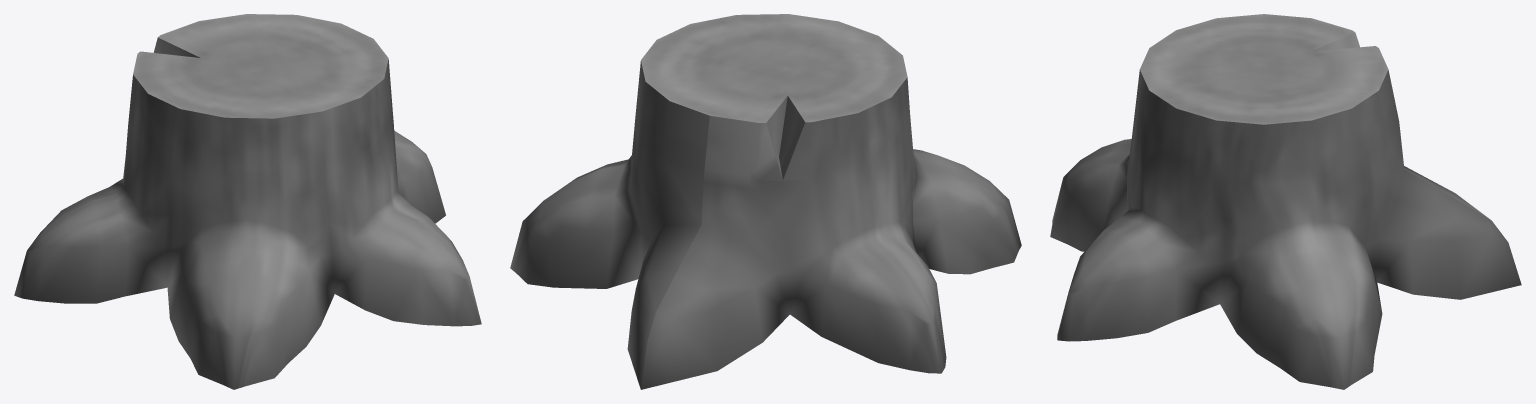
File: PltTreeOak2Stump.glb
3 views of the same model, side by side, from view 1: azimuth 30°, elevation 25°; view 2: azimuth 150°, elevation 25°; view 3: azimuth 270°, elevation 25° (orthographic). The views are drawn at different scales.
Visible parts, largest first — view 1: TrunkBottom__mPltTreeOakTrunk; view 2: TrunkBottom__mPltTreeOakTrunk; view 3: TrunkBottom__mPltTreeOakTrunk.
Boxes of the visible parts, left/top/right/bottom form: TrunkBottom__mPltTreeOakTrunk: left=14, top=14, right=481, bottom=389; TrunkBottom__mPltTreeOakTrunk: left=510, top=14, right=1021, bottom=389; TrunkBottom__mPltTreeOakTrunk: left=1050, top=14, right=1521, bottom=389.
Bounding box in the file's own units: 6.23 × 3.06 × 6.07.
Materials: 1 (1 with a texture image).
